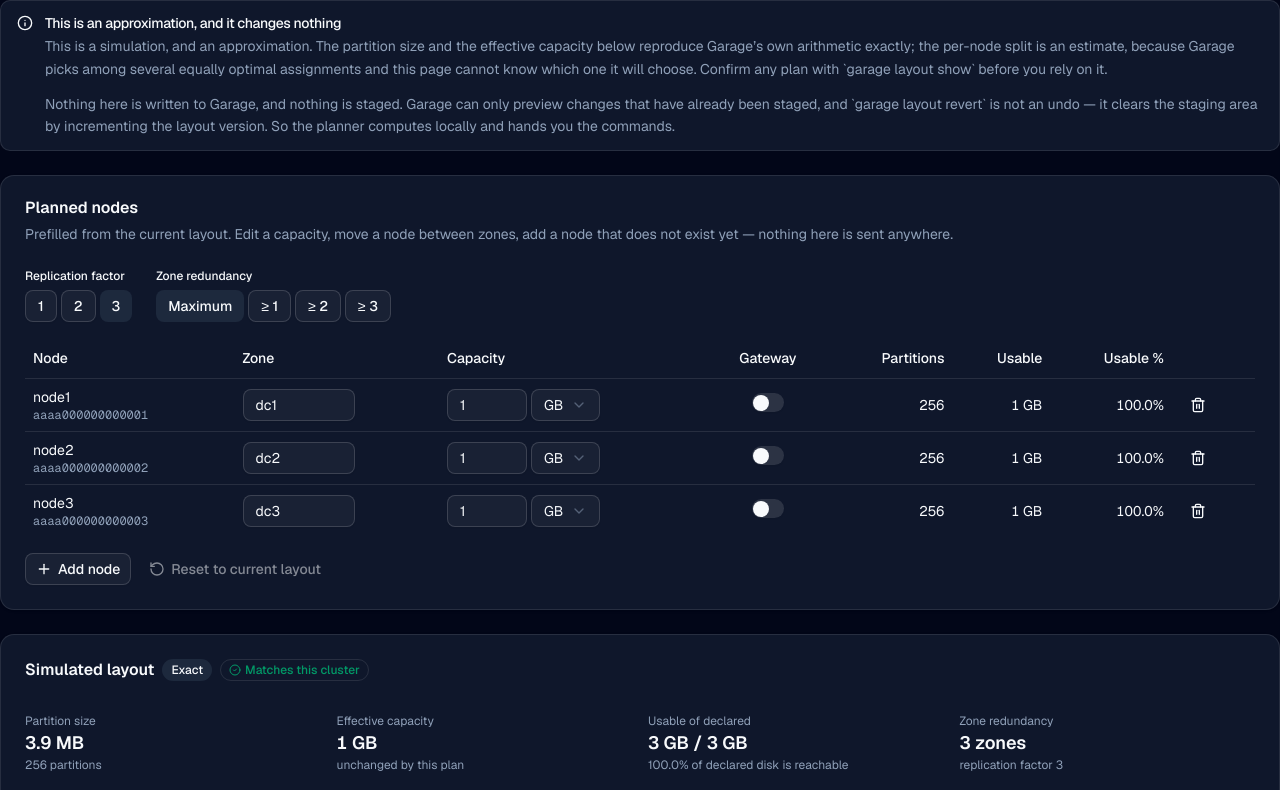
Test case: cluster layout planner › turns a node into a gateway and takes its capacity out of the plan
Expected: the text "Planned nodes" is shown, [25,197,138,218]
Step 1. Click the switch named "Gateway for node3" → [768, 509], box [752,499,784,518]
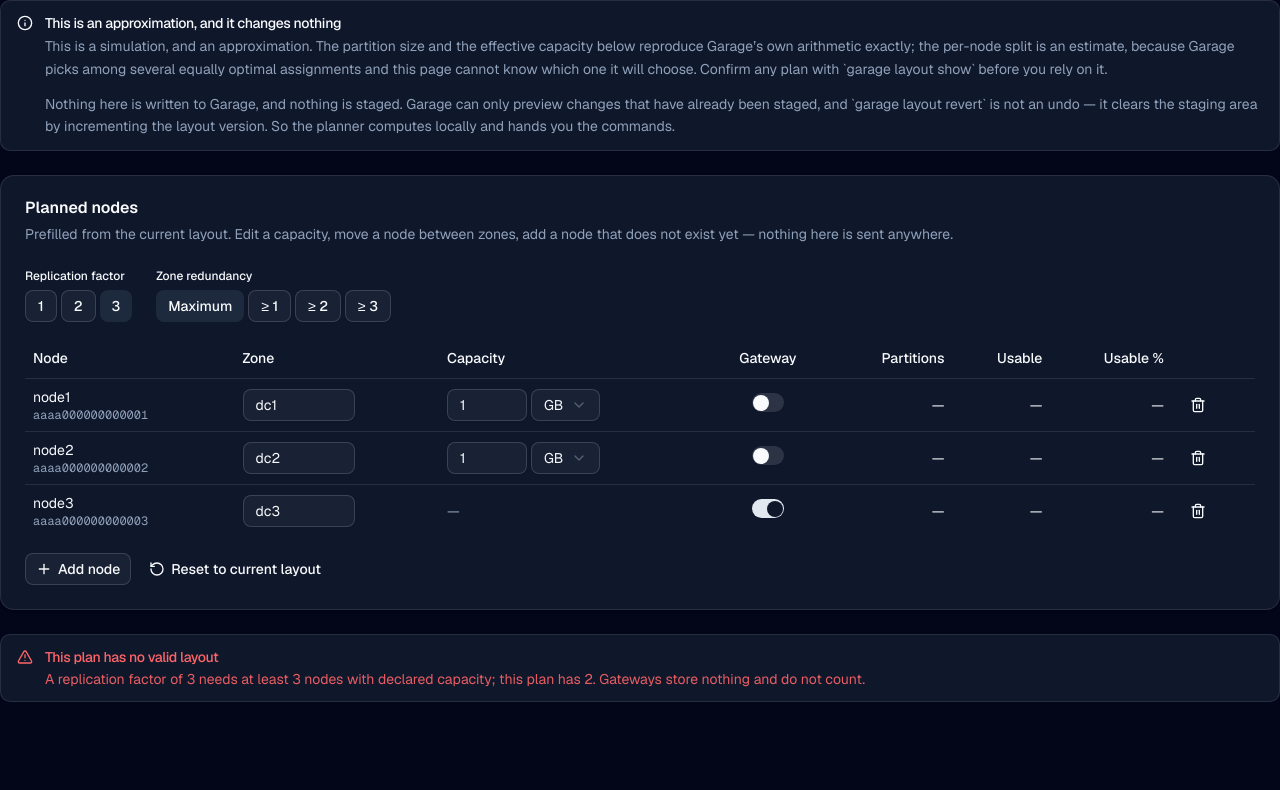
Now the text "This plan has no valid layout" is shown, box [45,648,218,666]
